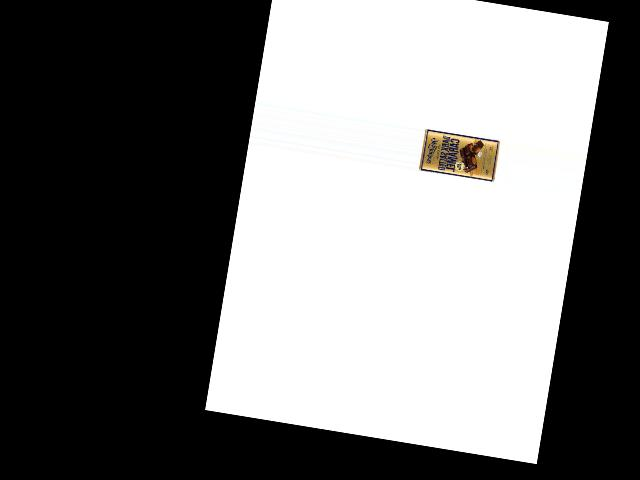chocolate: (419, 127, 502, 185)
